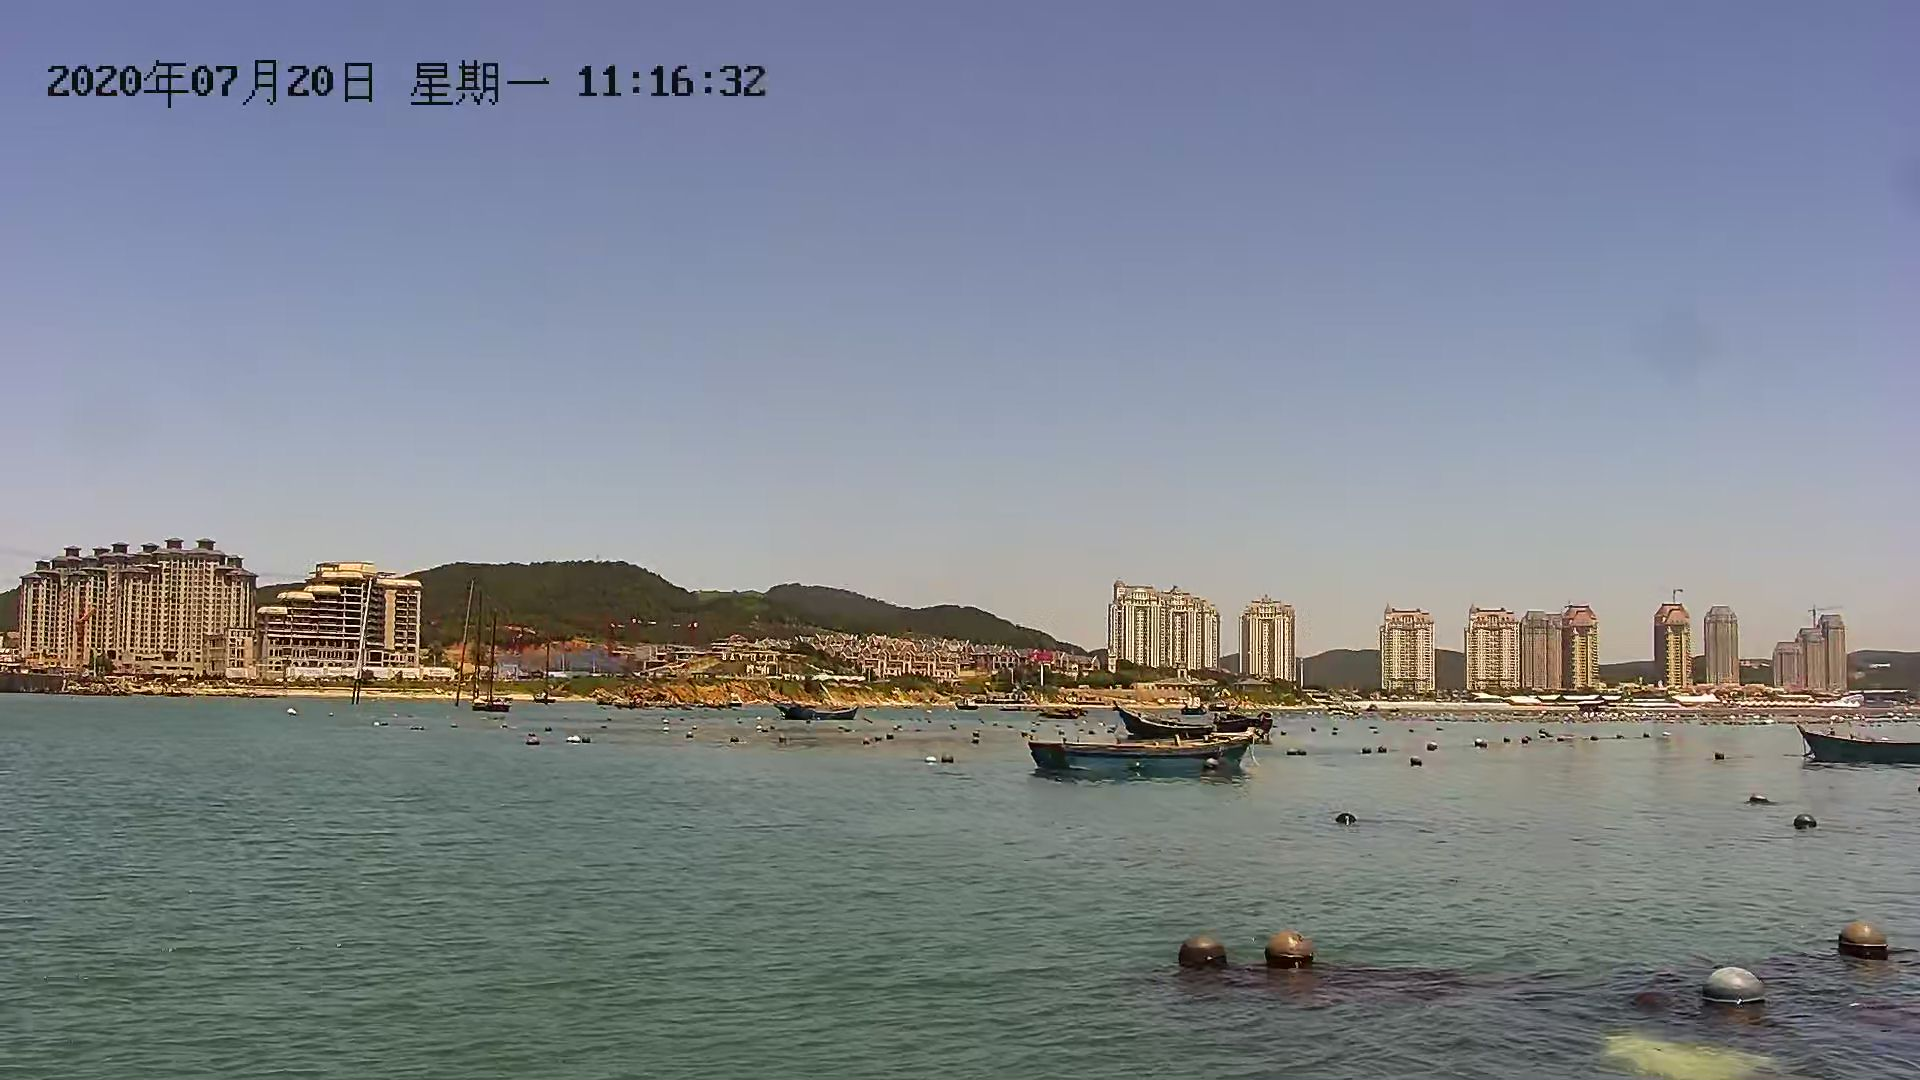ball: (1688, 953, 1782, 1025), (1821, 911, 1905, 975), (1254, 923, 1323, 980), (1172, 926, 1234, 982), (1785, 804, 1821, 839)
boat: (1023, 727, 1251, 783), (1112, 698, 1271, 745), (1785, 717, 1920, 767), (774, 694, 862, 723)
